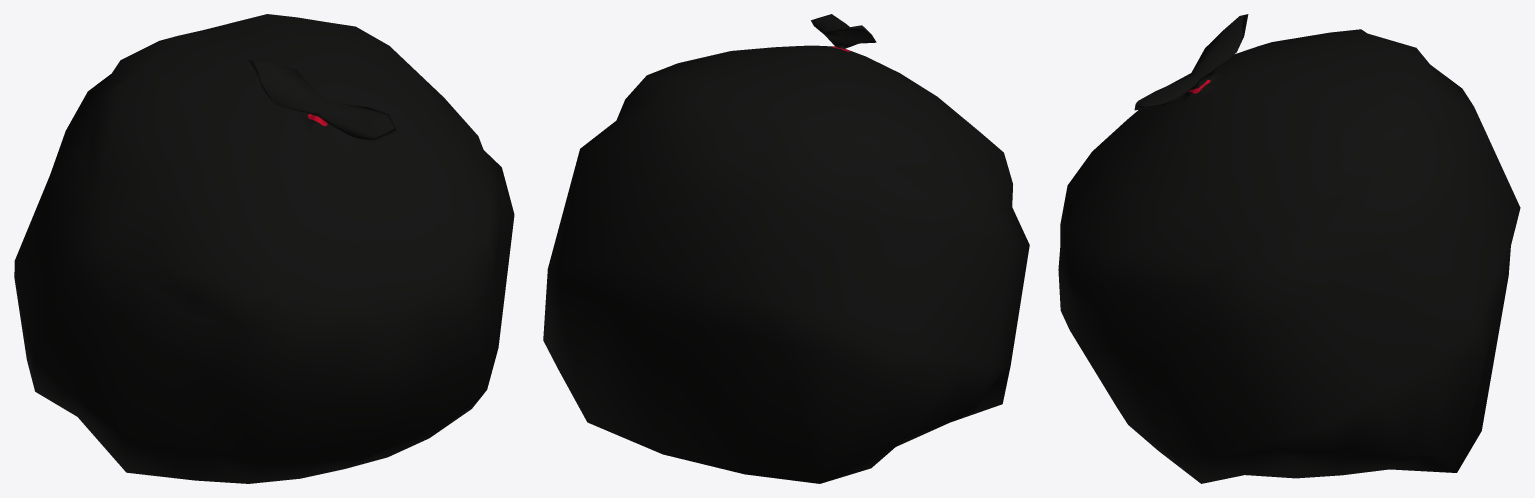
The model's file is garbage_bag_03.fbx.
3 views of the same model, side by side, from view 1: azimuth 30°, elevation 25°; view 2: azimuth 150°, elevation 25°; view 3: azimuth 270°, elevation 25° (orthographic). The views are drawn at different scales.
Visible parts, largest first — view 1: garbage_bag_02; view 2: garbage_bag_02; view 3: garbage_bag_02.
Part boxes in pixels (x1,y1,x2,y2): garbage_bag_02: (14, 14, 514, 483); garbage_bag_02: (543, 14, 1029, 483); garbage_bag_02: (1058, 14, 1520, 483).
Bounding box in the file's own units: 51.64 × 44.37 × 47.06.
